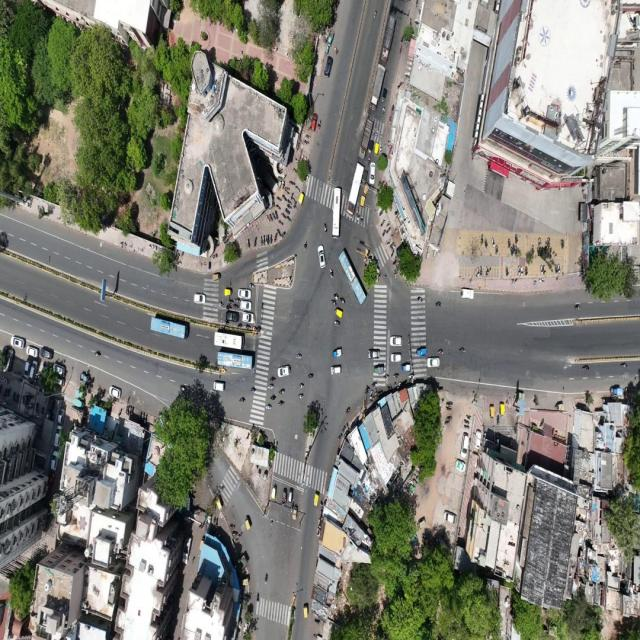3W: (241, 510, 254, 535), (213, 491, 226, 513), (330, 342, 344, 361), (310, 489, 322, 511), (269, 478, 279, 503), (301, 602, 311, 622), (414, 345, 428, 357), (292, 502, 299, 524), (488, 402, 496, 421), (372, 363, 384, 375), (297, 191, 306, 206), (499, 400, 506, 418), (334, 306, 344, 318), (360, 192, 366, 212), (374, 139, 380, 158), (402, 363, 412, 374), (362, 182, 370, 195), (368, 140, 374, 156), (382, 86, 387, 104), (363, 168, 368, 185), (210, 274, 222, 281), (224, 288, 233, 296)
Bus: (337, 250, 374, 306), (346, 162, 365, 220), (148, 317, 192, 340), (212, 352, 254, 370), (331, 183, 342, 244), (212, 331, 247, 350)
Cars: (442, 505, 458, 527), (316, 244, 328, 270), (8, 333, 26, 350), (323, 55, 334, 80), (108, 383, 124, 400), (50, 360, 66, 377), (460, 432, 470, 459), (459, 287, 477, 301), (26, 342, 40, 358), (364, 348, 382, 360), (388, 334, 403, 348), (278, 363, 292, 378), (329, 364, 344, 377), (29, 359, 38, 380), (280, 484, 288, 507), (40, 346, 54, 359), (388, 350, 403, 362), (192, 292, 207, 304), (241, 312, 256, 324), (426, 357, 442, 368), (310, 110, 318, 132), (369, 161, 376, 186), (213, 379, 226, 392), (240, 299, 253, 311), (226, 311, 240, 322), (238, 290, 255, 298), (24, 359, 30, 380), (288, 487, 294, 503)
M2W: (90, 346, 104, 361), (558, 236, 568, 253), (578, 361, 592, 373), (320, 220, 329, 234), (458, 344, 468, 356), (572, 300, 582, 312), (300, 238, 310, 250), (618, 359, 629, 369), (248, 382, 257, 394), (372, 7, 378, 23), (306, 371, 316, 380), (295, 392, 306, 400), (433, 300, 445, 307), (483, 236, 489, 250), (415, 294, 424, 303), (276, 399, 286, 407), (535, 235, 543, 245), (329, 267, 335, 280), (266, 375, 277, 382), (545, 235, 552, 246), (269, 392, 277, 401), (278, 387, 287, 395), (435, 348, 447, 354), (490, 236, 496, 248), (391, 372, 400, 380), (375, 127, 381, 139), (298, 380, 305, 390), (237, 396, 247, 403), (344, 405, 351, 415), (505, 264, 510, 278), (524, 264, 529, 278), (340, 295, 347, 305), (296, 352, 302, 363), (334, 290, 340, 301), (264, 214, 270, 225), (246, 237, 251, 250), (253, 235, 258, 248), (259, 234, 264, 247), (317, 119, 322, 132), (446, 398, 454, 406), (333, 319, 341, 327), (284, 207, 291, 216), (290, 502, 295, 514), (506, 236, 511, 248), (485, 264, 490, 276), (444, 406, 454, 412), (444, 414, 454, 420), (496, 412, 500, 427), (495, 242, 499, 256), (476, 264, 480, 278), (480, 263, 484, 277), (515, 232, 519, 246), (543, 262, 547, 276), (363, 386, 371, 393), (382, 374, 390, 381), (217, 300, 224, 308), (356, 212, 360, 226), (275, 203, 282, 211), (266, 384, 275, 390), (443, 420, 452, 426), (282, 193, 288, 202), (480, 231, 484, 244), (356, 204, 360, 217), (382, 106, 386, 119), (331, 297, 336, 307), (265, 404, 272, 411), (278, 220, 285, 227), (286, 216, 293, 223), (518, 262, 521, 278), (463, 418, 471, 424), (232, 304, 240, 310), (380, 218, 386, 226), (360, 214, 364, 226), (273, 233, 279, 241), (540, 262, 543, 276), (371, 381, 377, 388), (249, 282, 256, 288), (226, 299, 234, 304), (266, 235, 270, 245), (521, 265, 524, 278), (225, 305, 232, 310), (223, 321, 230, 326), (386, 239, 391, 246), (386, 220, 391, 227), (386, 227, 391, 234), (382, 230, 386, 238), (234, 298, 240, 303), (236, 323, 242, 328), (244, 324, 251, 328)
Truck: (379, 10, 398, 63), (358, 112, 376, 160), (370, 63, 386, 111)
